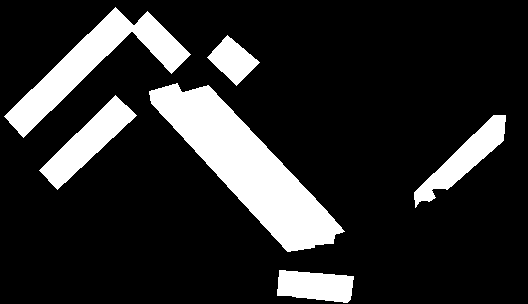parkingspot: (149, 83, 314, 251), (179, 85, 344, 244), (4, 7, 135, 137), (39, 95, 136, 189), (414, 115, 505, 207), (130, 11, 190, 73), (207, 35, 259, 85), (277, 270, 353, 302)
